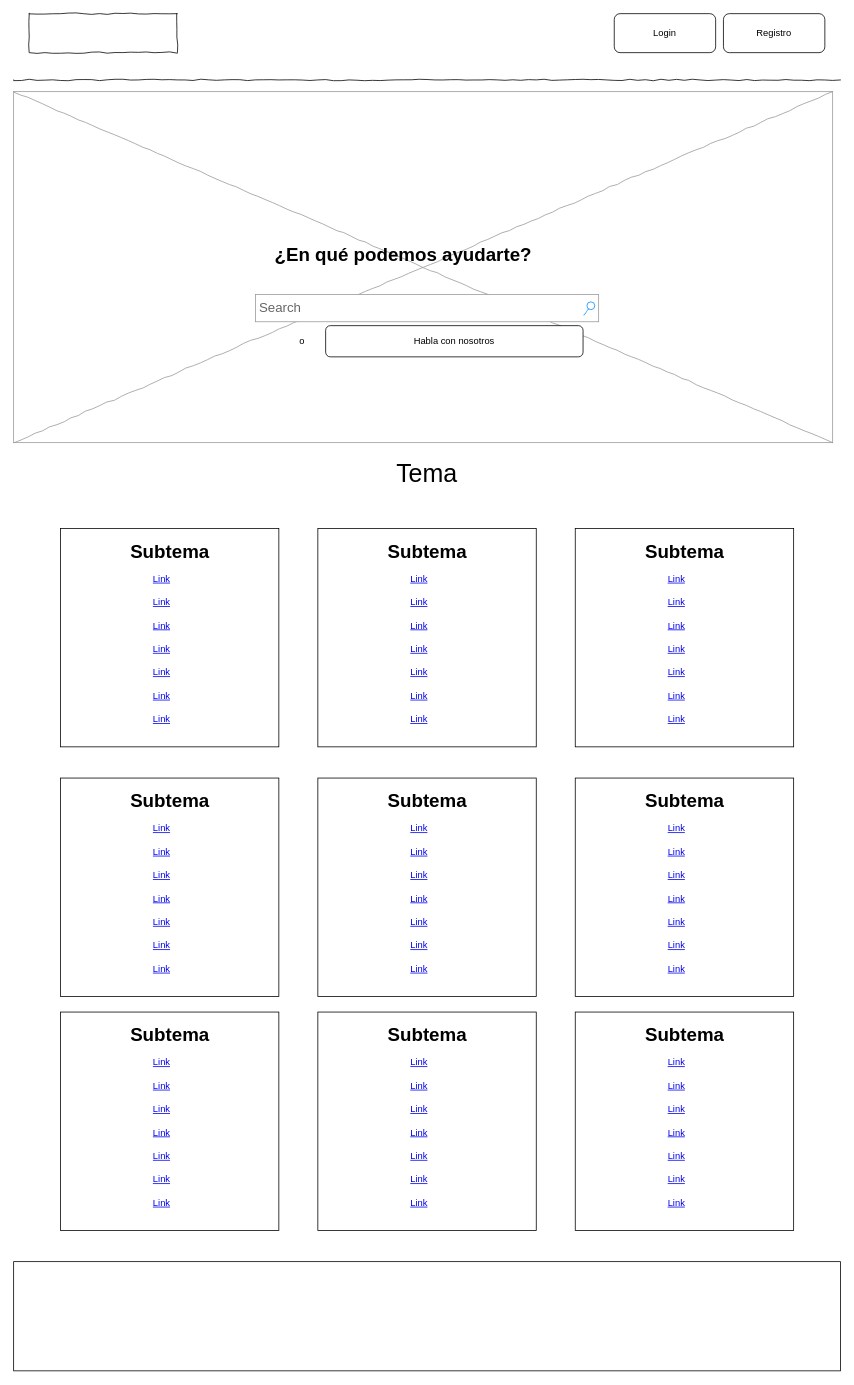
Image size: 854x1385. Some labels were removed from this diagram. The shapes that lost their labels are listed below. From the top down, each one's centre as x and y in pixels, then its label:
At [102,33]: "LOGO".
At [426,1316]: "Footer".
